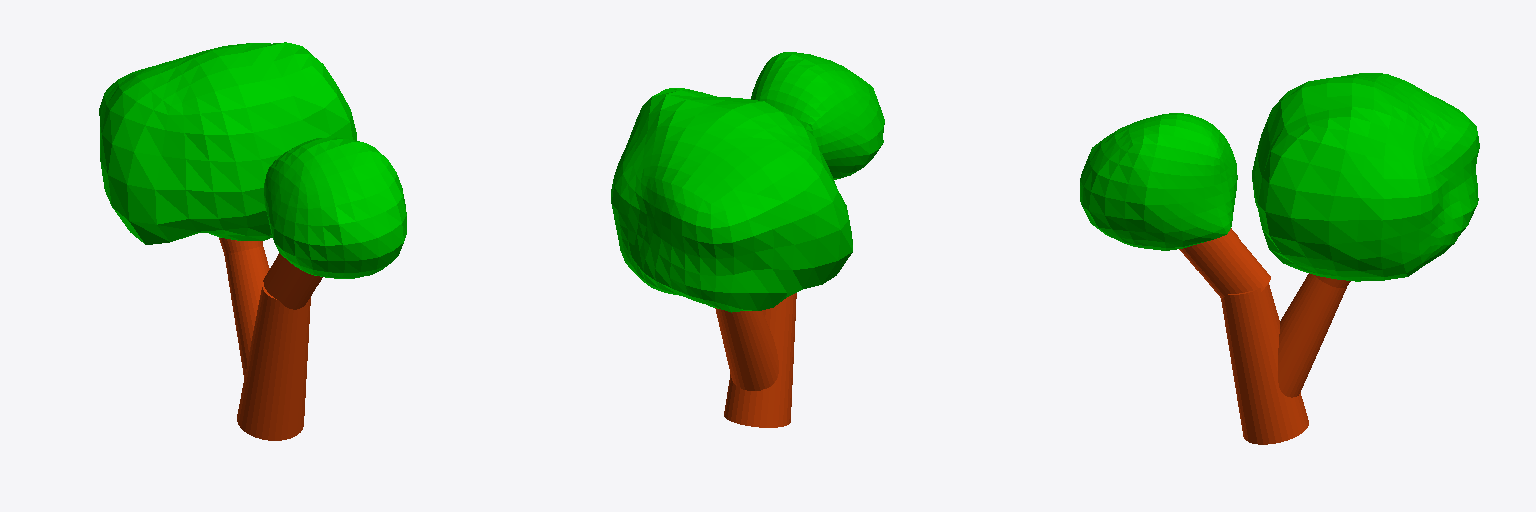
File: Another_Tree.obj
3 views of the same model, side by side, from view 1: azimuth 30°, elevation 25°; view 2: azimuth 150°, elevation 25°; view 3: azimuth 270°, elevation 25° (orthographic).
Visible parts, largest first — view 1: Cube.001, Cube, Cylinder.002, Cylinder.003, Cylinder.001, Cylinder; view 2: Cube.001, Cube, Cylinder.002, Cylinder.003; view 3: Cube.001, Cube, Cylinder.002, Cylinder.003, Cylinder.001, Cylinder.
Boxes of the visible parts, box(x1,y1,x2,y2) form: Cube.001: box(99, 42, 356, 244); Cube: box(264, 137, 406, 278); Cylinder.002: box(237, 282, 310, 440); Cylinder.003: box(219, 238, 269, 377); Cylinder.001: box(263, 256, 315, 309); Cylinder: box(278, 253, 322, 290); Cube.001: box(611, 88, 852, 312); Cube: box(751, 52, 884, 179); Cylinder.002: box(724, 293, 796, 427); Cylinder.003: box(715, 308, 778, 390); Cube.001: box(1252, 73, 1479, 281); Cube: box(1080, 113, 1237, 250); Cylinder.002: box(1221, 283, 1308, 444); Cylinder.003: box(1278, 273, 1350, 397); Cylinder.001: box(1199, 239, 1270, 298); Cylinder: box(1179, 228, 1238, 270).
Bounding box in the file's own units: 3.55 × 5.31 × 5.56.